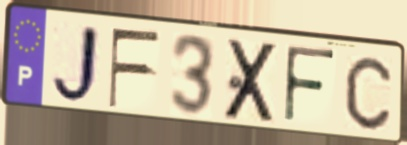3: (168, 31, 217, 120)
C: (343, 54, 394, 133)
F: (281, 43, 338, 128), (107, 26, 163, 111)
J: (49, 21, 102, 108)
X: (221, 37, 281, 125)
